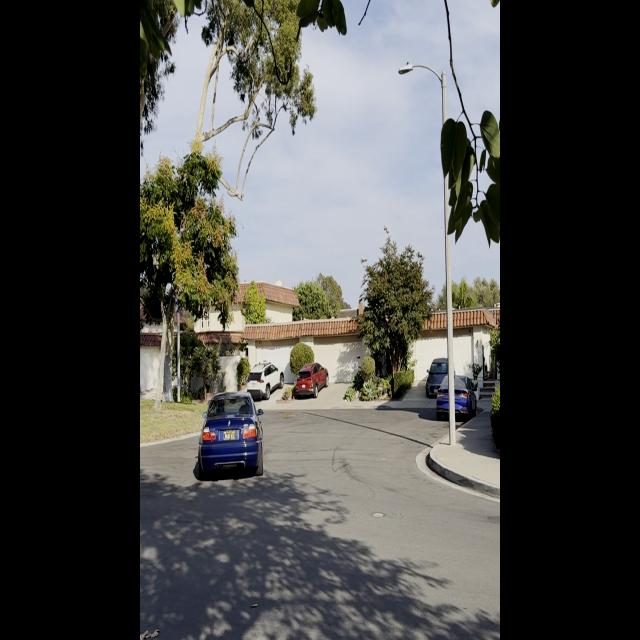Carbeetle: (189, 382, 269, 490)
Civilian: (435, 373, 477, 423), (246, 361, 284, 400), (293, 362, 330, 399), (426, 352, 453, 398)
